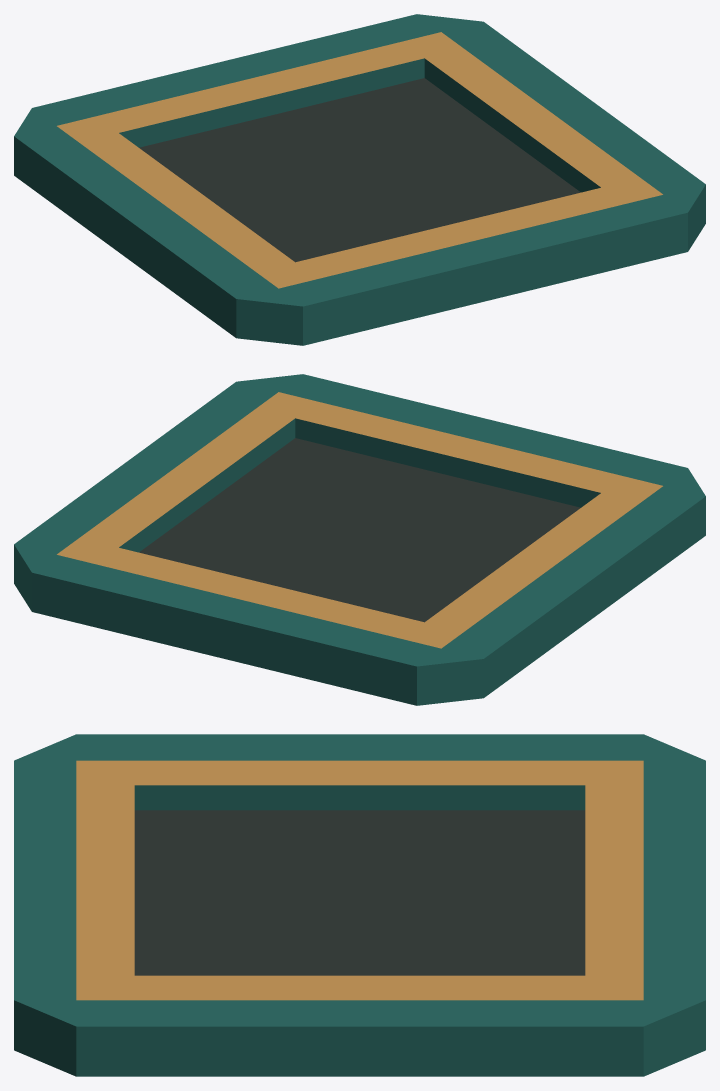
Rendered from metalTile.glb.
The picture shows the model from 3 angles, top to bottom: view 1: azimuth 30°, elevation 25°; view 2: azimuth 150°, elevation 25°; view 3: azimuth 270°, elevation 25°; orthographic projection. The views are drawn at different scales.
Parts seen in each view (by area): view 1: metalTile; view 2: metalTile; view 3: metalTile.
Boxes of the visible parts, left/top/right/bottom form: metalTile: left=14, top=14, right=705, bottom=345; metalTile: left=14, top=374, right=705, bottom=705; metalTile: left=14, top=734, right=705, bottom=1076.
Size of the model in its own units: 1 by 0.08 by 1.
